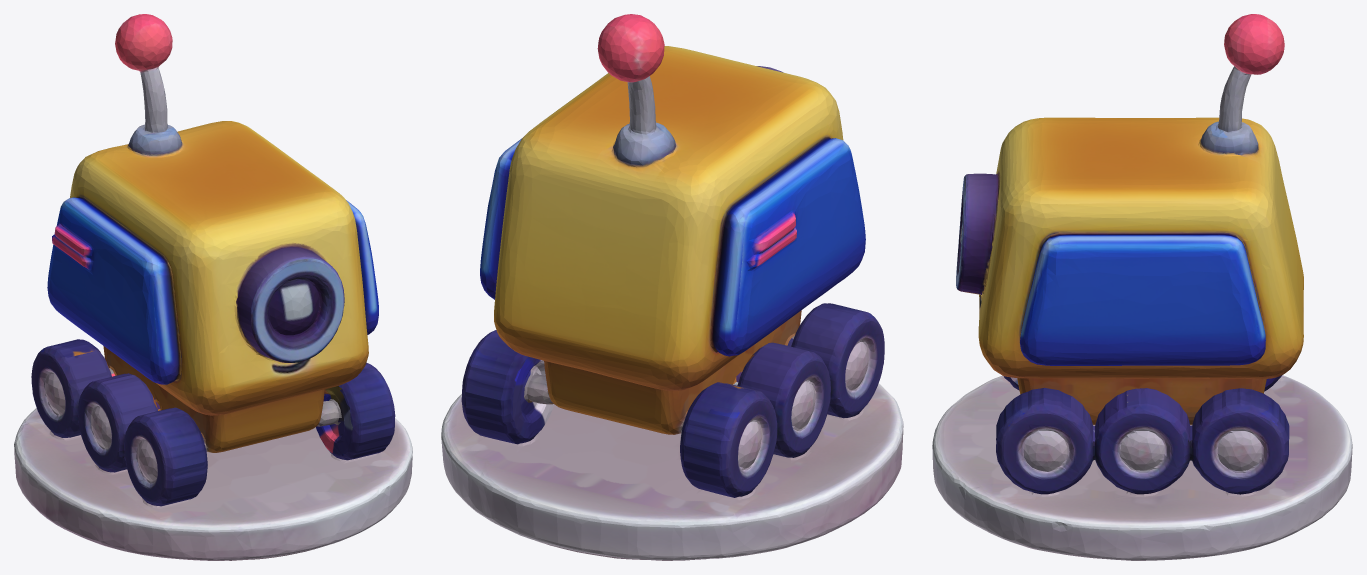
File: fig-16.glb
3 views of the same model, side by side, from view 1: azimuth 30°, elevation 25°; view 2: azimuth 150°, elevation 25°; view 3: azimuth 270°, elevation 25° (orthographic). The views are drawn at different scales.
Parts seen in each view (by area): view 1: tmp_g5hfd78.ply; view 2: tmp_g5hfd78.ply; view 3: tmp_g5hfd78.ply.
Part boxes in pixels (bbox=[...]): tmp_g5hfd78.ply: bbox=[14, 14, 412, 560]; tmp_g5hfd78.ply: bbox=[441, 14, 903, 560]; tmp_g5hfd78.ply: bbox=[932, 14, 1352, 560].
Size of the model in its own units: 1.62 by 1.99 by 1.67.
1 material, 1 textured.
